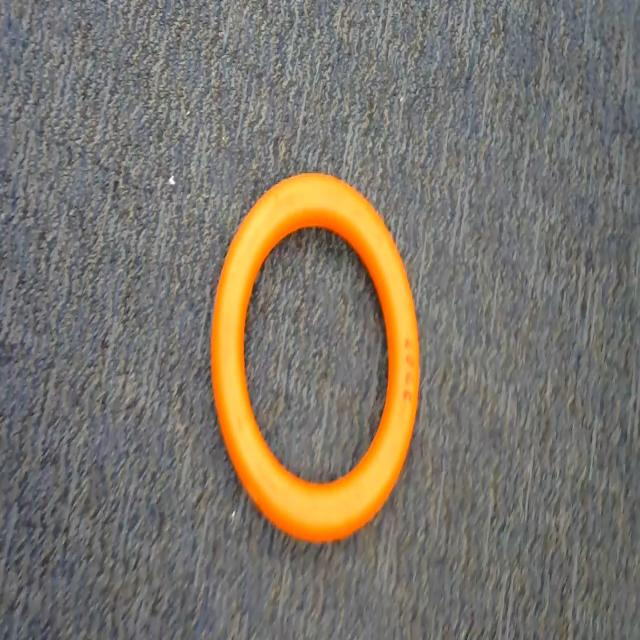note: (195, 145, 446, 573)
